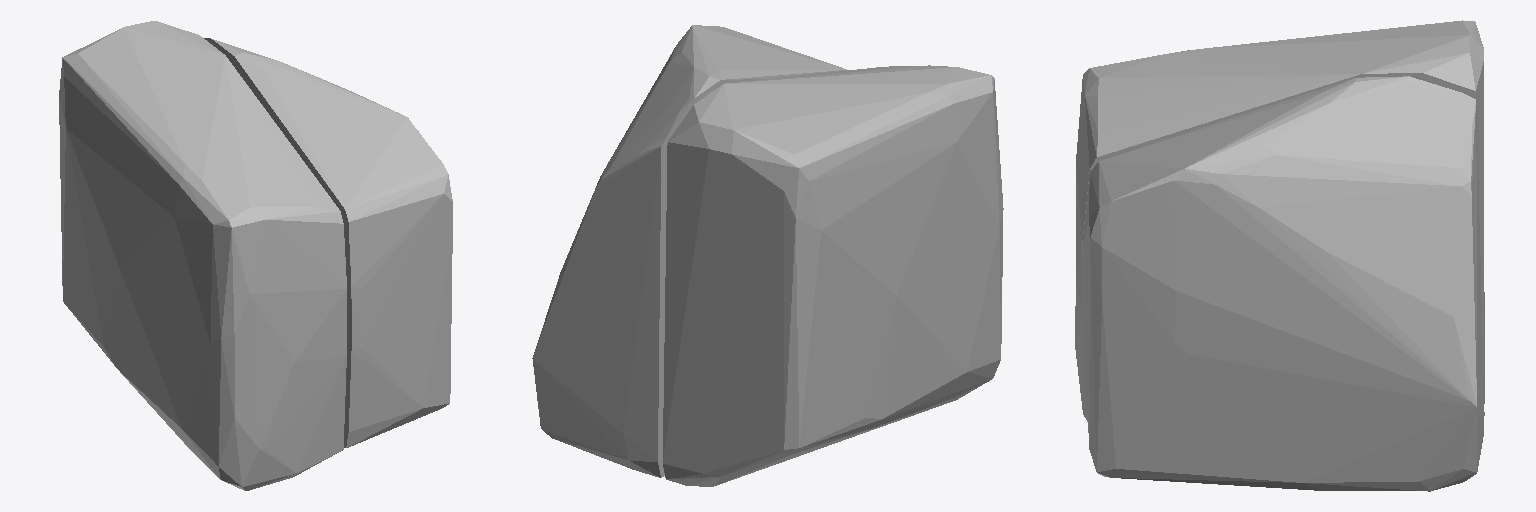
robot.urdf — root:
<robot name="root">
  <link name="link_rock16_convex_piece_0">
    <inertial>
      <origin rpy="0 0 0" xyz="0 0 0"/>
      <mass value="6.90E+05"/>
      <inertia ixx="2.01E+09" ixy="5.40E+09" ixz="-2.82E+09" iyy="-1.29E+10" iyz="-2.21E+08" izz="-1.33E+10"/>
    </inertial>
    <visual>
      <origin rpy="0 0 0" xyz="0 0 0"/>
      <geometry>
        <mesh filename="rock16_convex_piece_0.obj" scale="1.0000E+00 1.0000E+00 1.0000E+00"/>
      </geometry>
      <material name="">
        <color rgba="7.50E-01 7.50E-01 7.50E-01 1"/>
      </material>
    </visual>
    <collision>
      <origin rpy="0 0 0" xyz="0 0 0"/>
      <geometry>
        <mesh filename="rock16_convex_piece_0.obj" scale="1.0000E+00 1.0000E+00 1.0000E+00"/>
      </geometry>
    </collision>
  </link>
  <link name="link_rock16_convex_piece_1">
    <inertial>
      <origin rpy="0 0 0" xyz="0 0 0"/>
      <mass value="5.32E+05"/>
      <inertia ixx="6.35E+08" ixy="-5.45E+09" ixz="2.75E+09" iyy="1.52E+10" iyz="3.83E+08" izz="1.59E+10"/>
    </inertial>
    <visual>
      <origin rpy="0 0 0" xyz="0 0 0"/>
      <geometry>
        <mesh filename="rock16_convex_piece_1.obj" scale="1.0000E+00 1.0000E+00 1.0000E+00"/>
      </geometry>
      <material name="">
        <color rgba="7.50E-01 7.50E-01 7.50E-01 1"/>
      </material>
    </visual>
    <collision>
      <origin rpy="0 0 0" xyz="0 0 0"/>
      <geometry>
        <mesh filename="rock16_convex_piece_1.obj" scale="1.0000E+00 1.0000E+00 1.0000E+00"/>
      </geometry>
    </collision>
  </link>
  <joint name="link_rock16_convex_piece_1_joint" type="fixed">
    <origin rpy="0 0 0" xyz="0 0 0"/>
    <parent link="link_rock16_convex_piece_0"/>
    <child link="link_rock16_convex_piece_1"/>
  </joint>
</robot>

--- Render facts (derived) ---
The picture shows the robot from 3 angles, left to right: view 1: azimuth 30°, elevation 25°; view 2: azimuth 150°, elevation 25°; view 3: azimuth 270°, elevation 25°; orthographic projection.
Model root with 2 links and 1 joints (1 fixed), rooted at link_rock16_convex_piece_0, posed all joints at 0.
Visible links, largest first — view 1: link_rock16_convex_piece_0, link_rock16_convex_piece_1; view 2: link_rock16_convex_piece_0, link_rock16_convex_piece_1; view 3: link_rock16_convex_piece_1, link_rock16_convex_piece_0.
Link boxes in pixels (box(x1,y1,x2,y2)): link_rock16_convex_piece_0: box(59, 21, 346, 490); link_rock16_convex_piece_1: box(204, 38, 452, 447); link_rock16_convex_piece_0: box(663, 65, 1003, 486); link_rock16_convex_piece_1: box(532, 25, 847, 477); link_rock16_convex_piece_1: box(1082, 76, 1484, 491); link_rock16_convex_piece_0: box(1075, 20, 1484, 421).
Size in the robot's own frame: 101 by 126 by 132 metres.
Meshes: 2 distinct files referenced, 2 mesh visuals loaded (2 OBJ).
